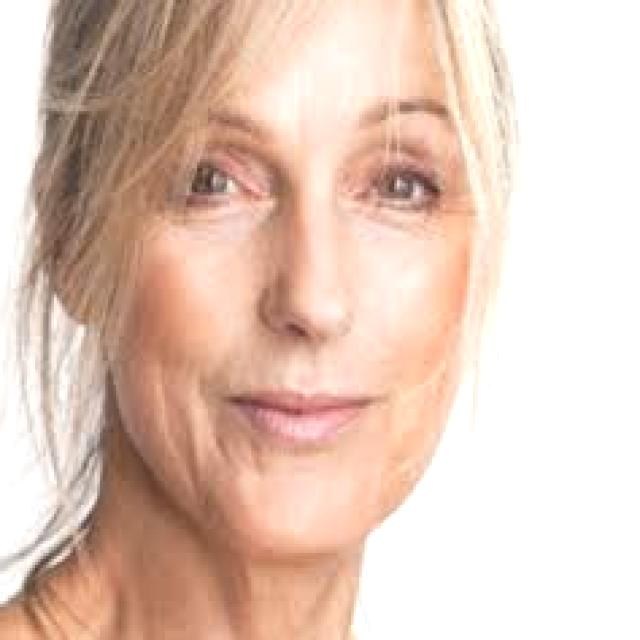normal_face: (68, 0, 494, 556)
